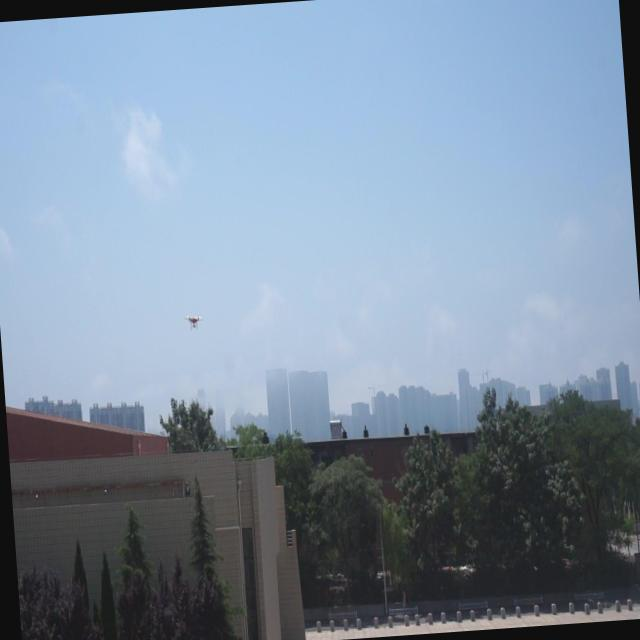drone: (184, 311, 203, 334)
